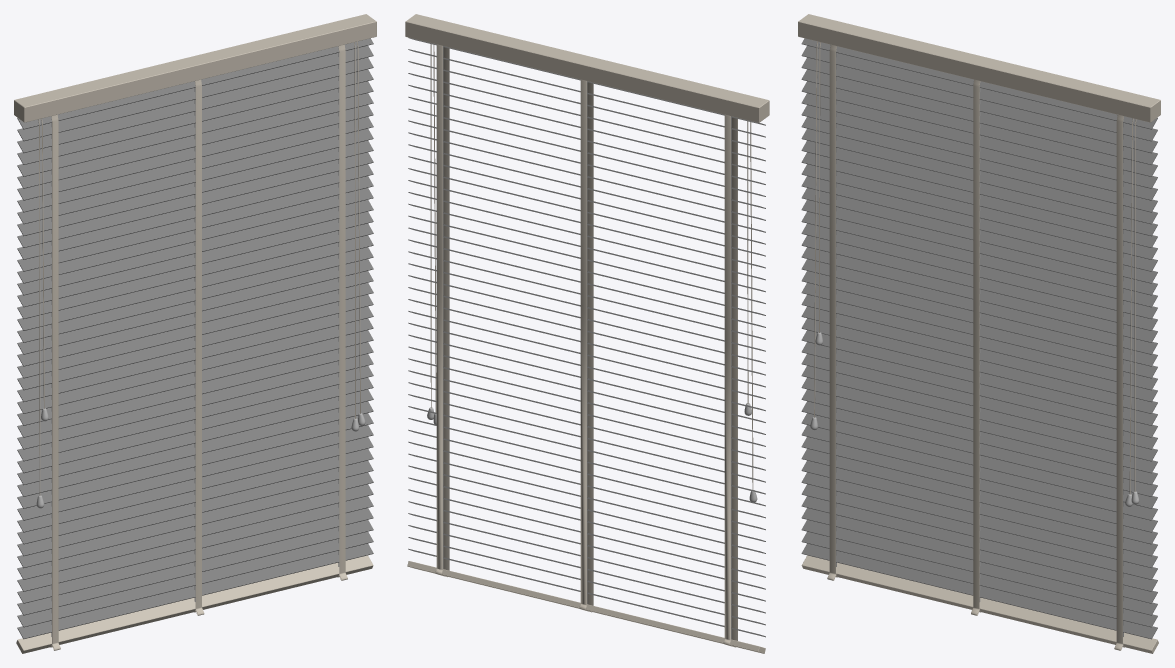
File: Blinds_1.fbx
The picture shows the model from 3 angles, left to right: view 1: azimuth 30°, elevation 25°; view 2: azimuth 150°, elevation 25°; view 3: azimuth 330°, elevation 25°; orthographic projection.
Visible parts, largest first — view 1: Blinds_1; view 2: Blinds_1; view 3: Blinds_1.
Part boxes in pixels (x1,y1,x2,y2): Blinds_1: (14, 14, 376, 653); Blinds_1: (405, 14, 769, 653); Blinds_1: (798, 14, 1160, 653).
Size of the model in its own units: 136 by 203 by 8.22.
